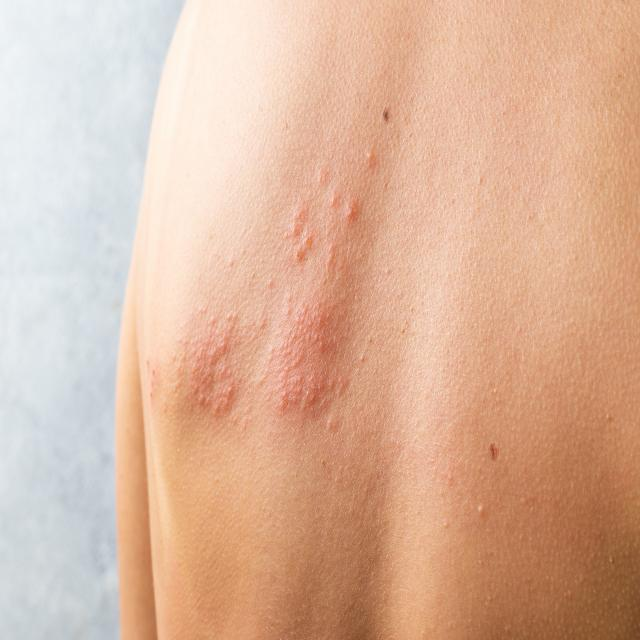herpes zoster: (149, 127, 372, 454)
